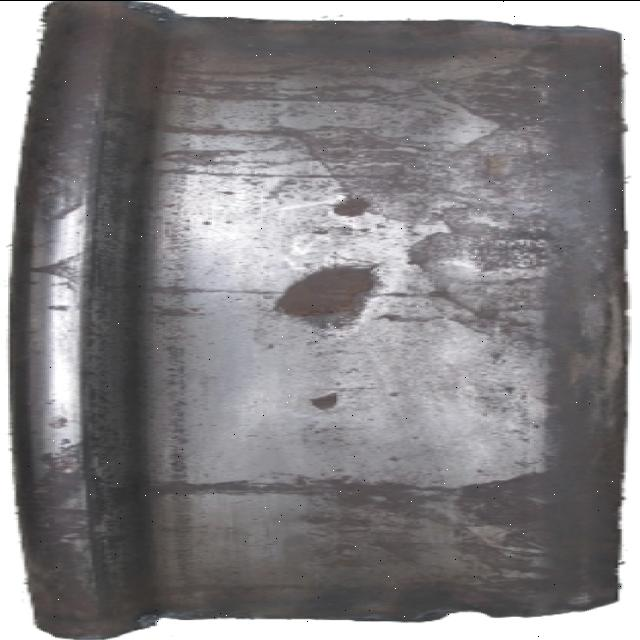boli: (266, 244, 400, 349), (292, 389, 358, 424), (322, 196, 380, 218)
